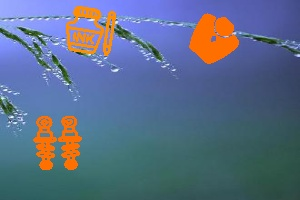上衣: (192, 12, 240, 62)
两长挂件: (35, 115, 81, 173)
墨水: (68, 5, 116, 56)
